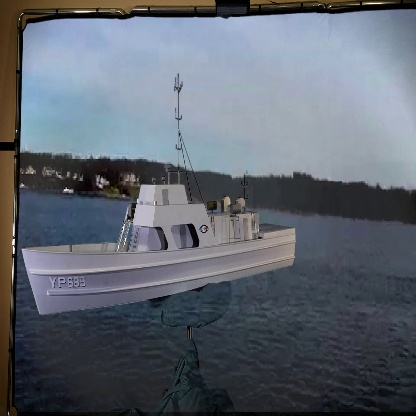YP689: (22, 73, 295, 321)
